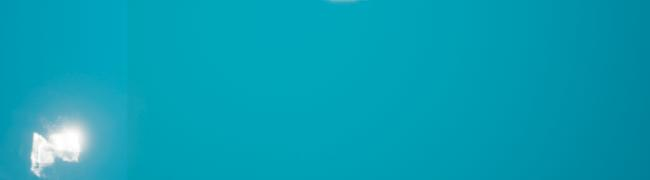land_base: (23, 101, 101, 179)
